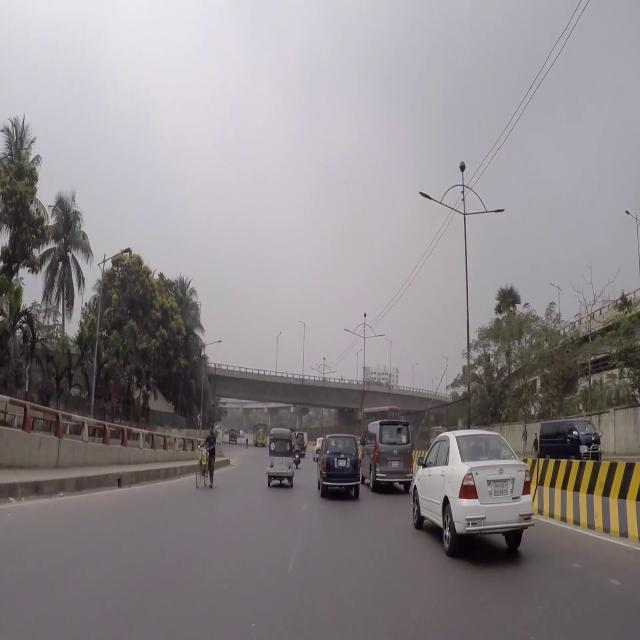black: (539, 418, 604, 476)
blue: (316, 432, 361, 498)
silver: (365, 415, 414, 494)
white: (410, 426, 535, 556)
